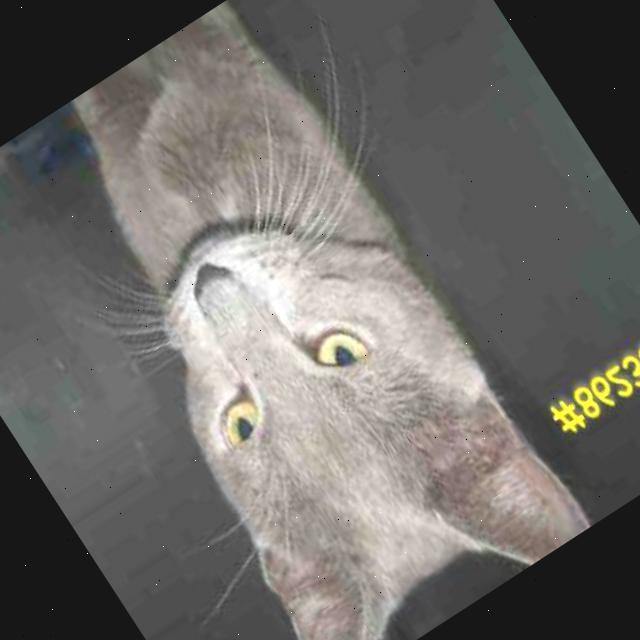cat-eye-normal: (298, 304, 391, 394), (196, 373, 284, 464)
